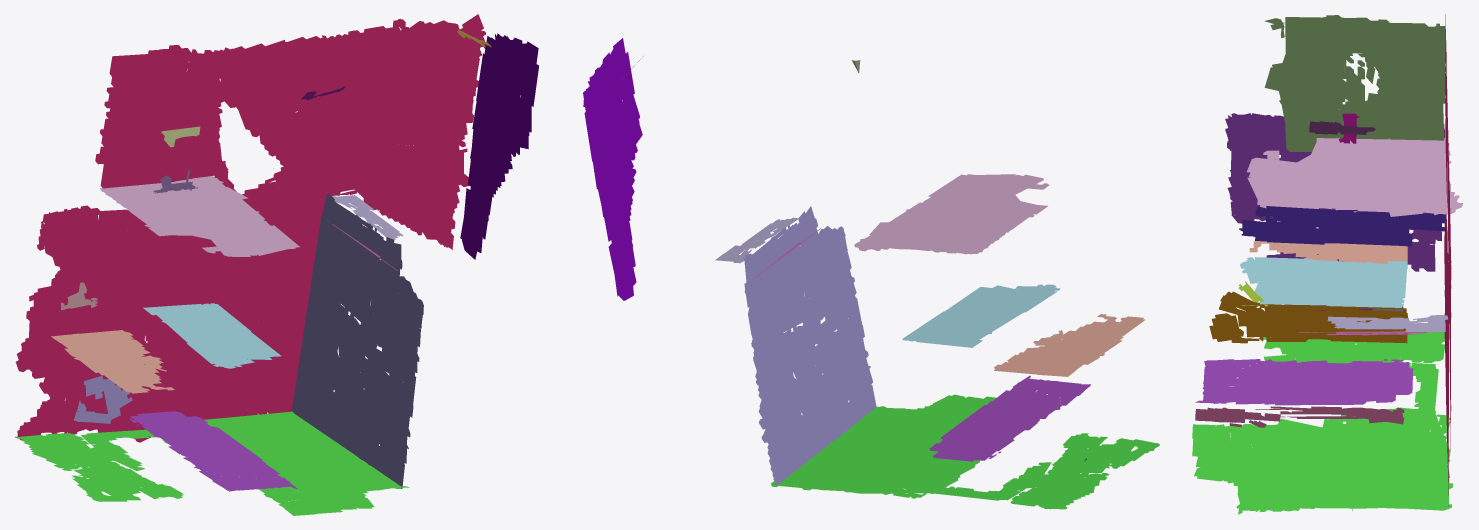
The model's file is scene0686_00_simple.glb.
3 views of the same model, side by side, from view 1: azimuth 30°, elevation 25°; view 2: azimuth 150°, elevation 25°; view 3: azimuth 270°, elevation 25° (orthographic). The views are drawn at different scales.
Bounding box in the file's own units: 4.25 × 3.42 × 2.04.
